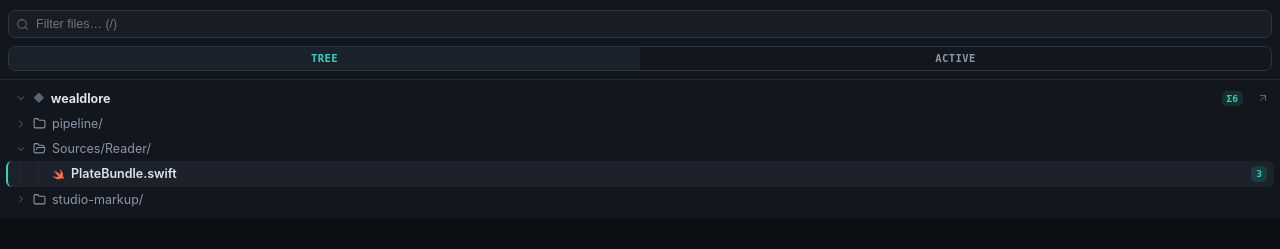
Test: CodeTree — fetch + default expansion › expanding a collapsed dir reveals its file rows
Check: the button "◆ wealdlore Σ6" is shown, box top-left (6, 86), bottom-right (1250, 111)
Click the button "pipeline/" at (77,124), box top-left (6, 111), bottom-right (1274, 136)
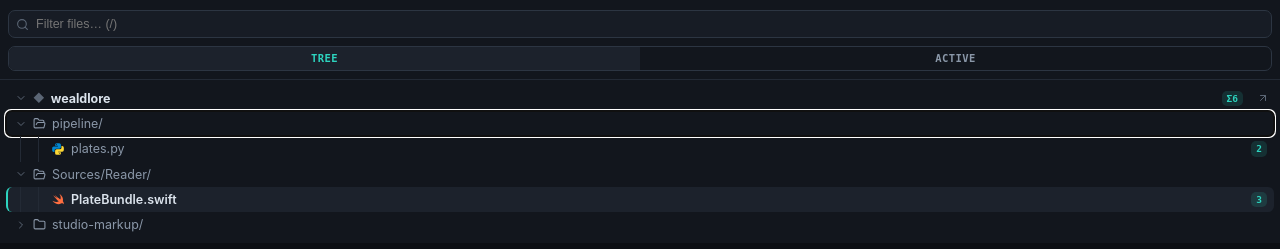
Check: the button "plates.py 2" is shown, box top-left (6, 136), bottom-right (1274, 162)
